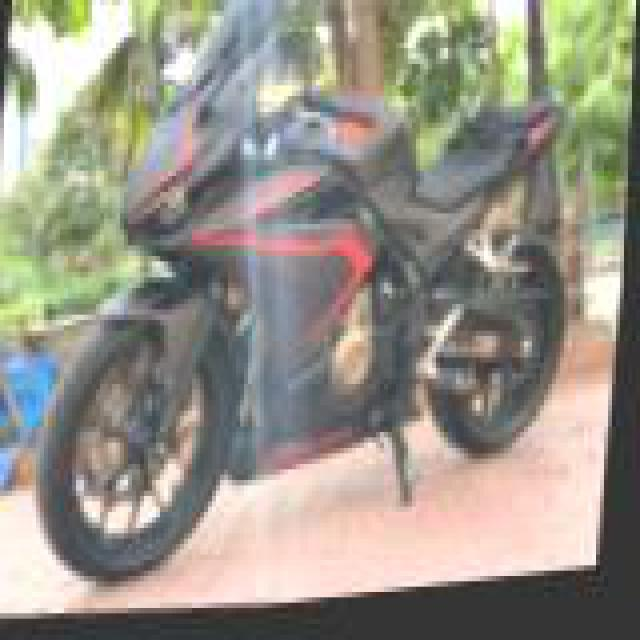CBR500R: (34, 0, 606, 624)
